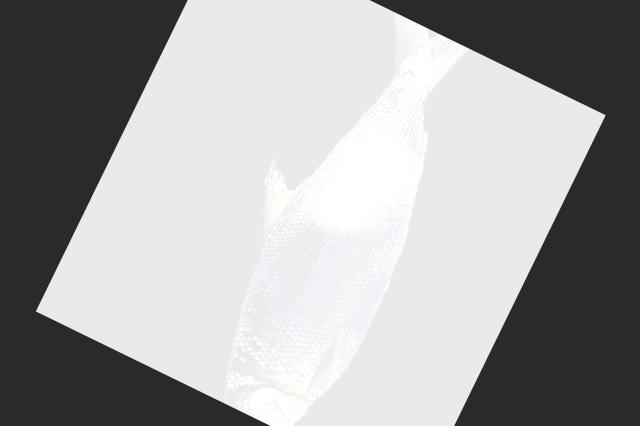Fungal Disease -Saprolegniasis-: (225, 12, 469, 426), (225, 13, 467, 426)
